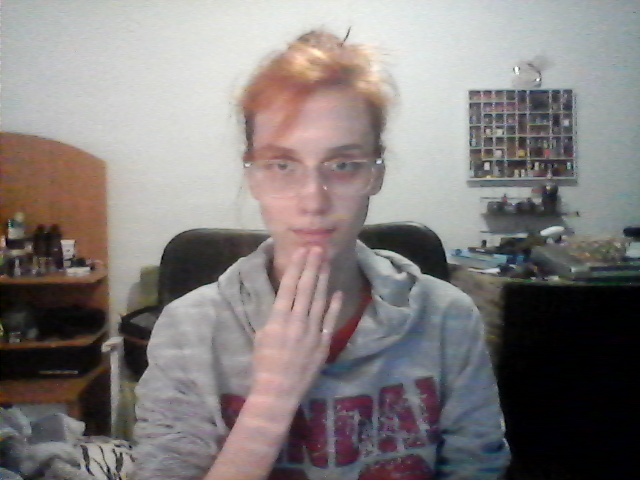dakujem: (223, 235, 364, 390)
